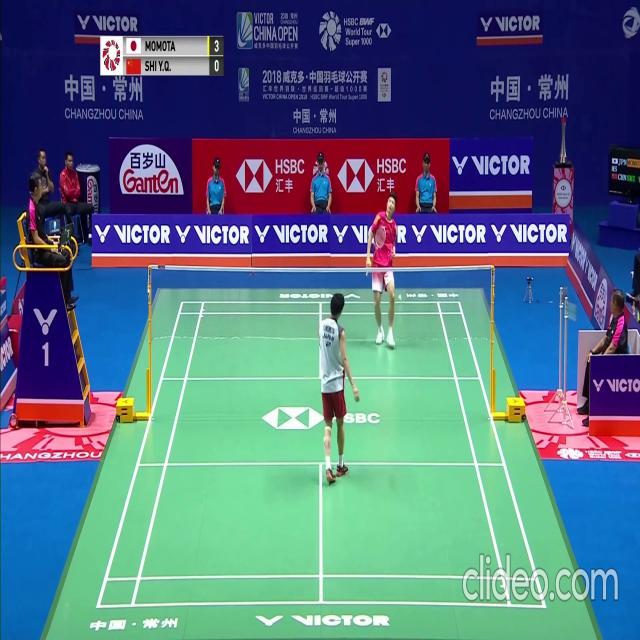Shuttlecock: (398, 294, 402, 301)
